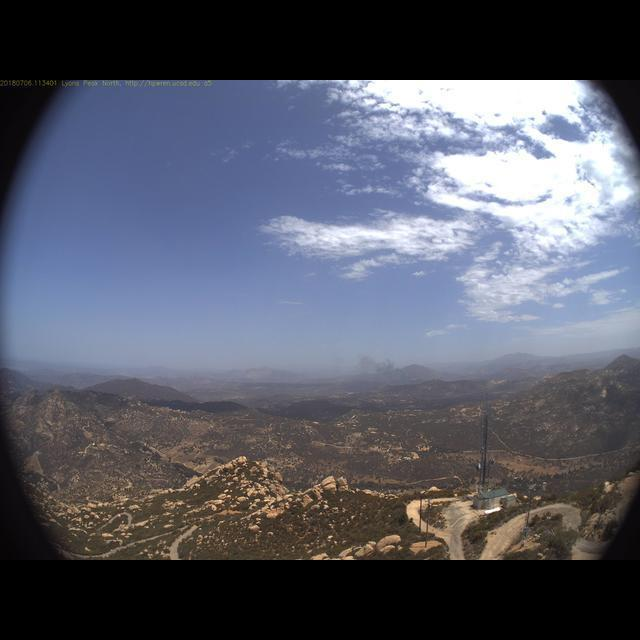Smoke: (355, 345, 403, 382)
